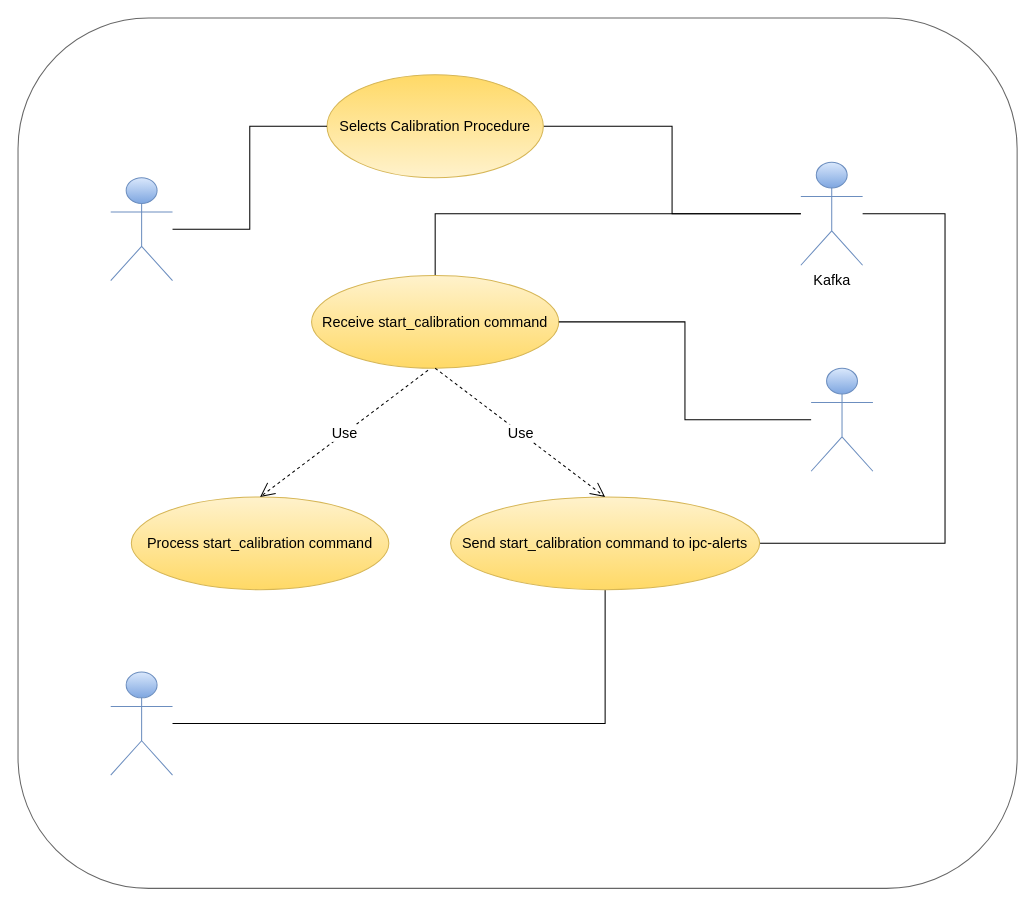
This 1035x906 diagram has some shape labels left out. Each missing label, with the centre of its shape:
"Engine" belongs at (841,419).
"Patient" belongs at (141,229).
"Sensors" belongs at (141,723).
